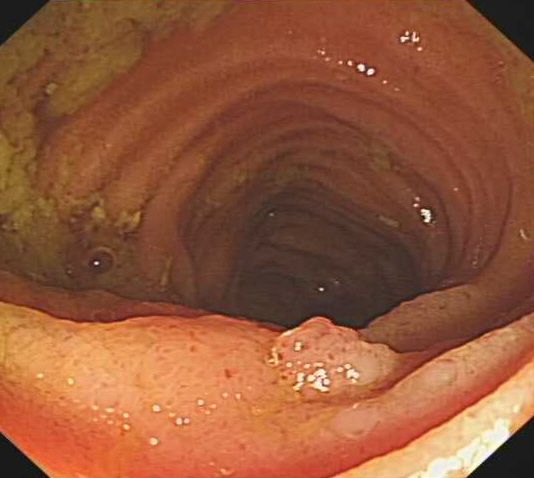adenoma: (270, 314, 395, 388)
